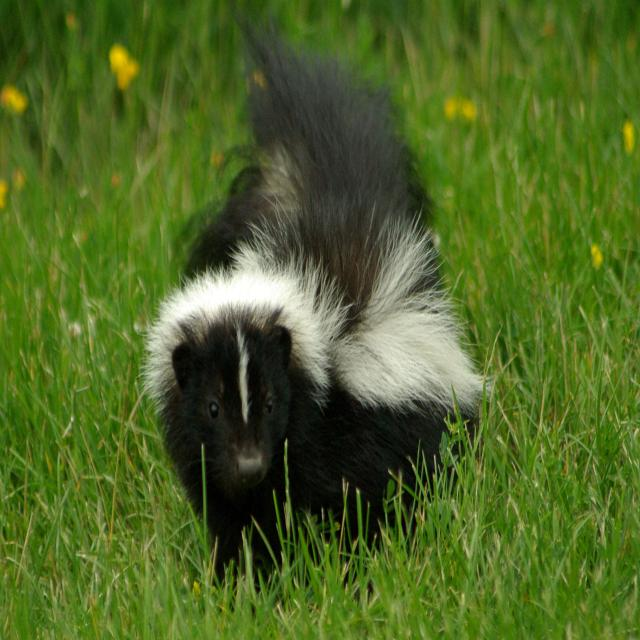Skunk: (134, 10, 498, 588)
